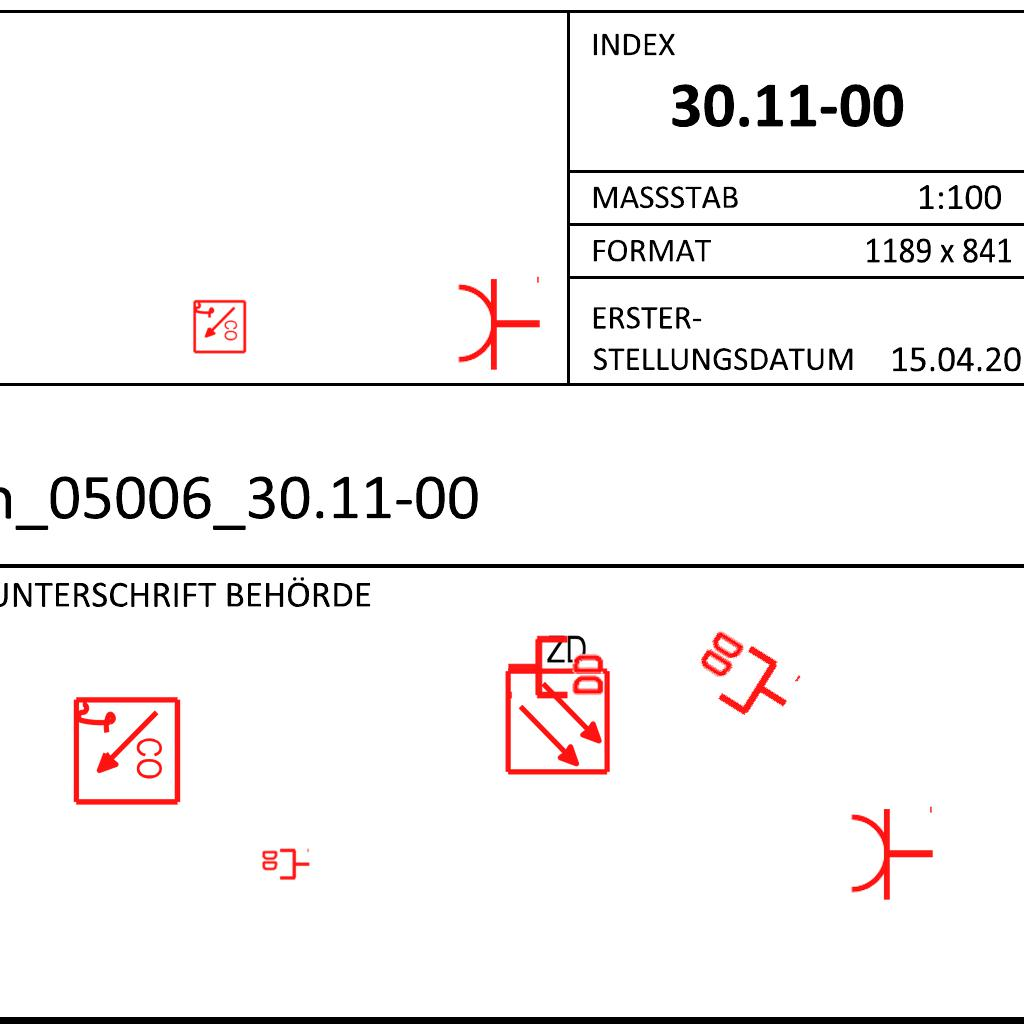Datenanschluss_zweifach: (681, 622, 806, 737), (505, 631, 608, 700), (260, 848, 311, 882)
ROA_Rauchmelder_optisch_mit_Signalgeber_(Sockelsirene): (69, 695, 182, 808), (191, 299, 247, 355)
Schukosteckdose_einfach: (848, 802, 935, 902), (455, 272, 542, 372)
ZD_Melder_in_Zwischendecke_mit_Revisionsoeffnung_mind_40_x_40_cm: (499, 628, 613, 777)
